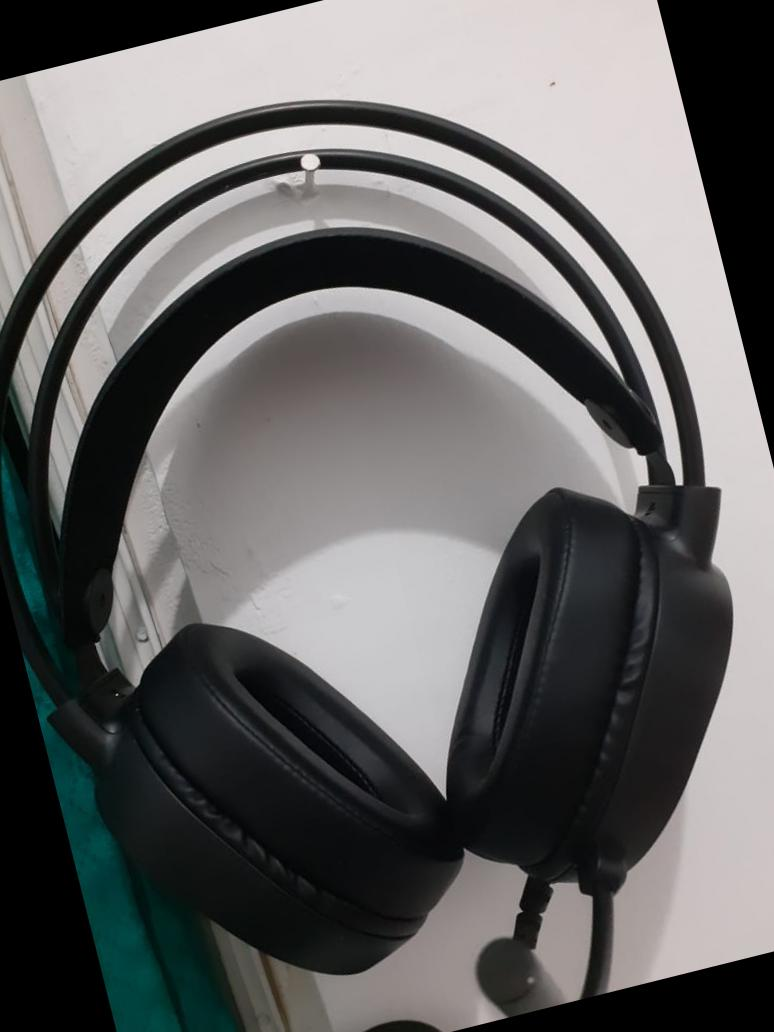Headset: (0, 6, 773, 1031)
